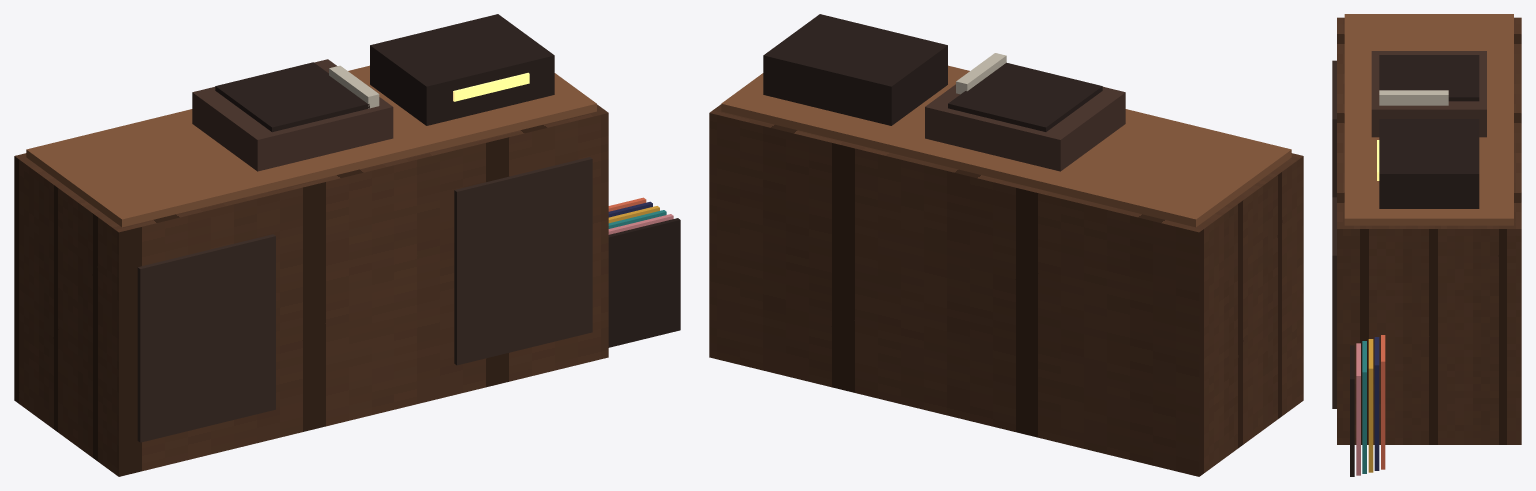
The model's file is stereo.glb.
3 renders of one model, left to right at view 1: azimuth 30°, elevation 25°; view 2: azimuth 150°, elevation 25°; view 3: azimuth 270°, elevation 25°, orthographic. The views are drawn at different scales.
Visible parts, largest first — view 1: Box1, Box2, Box4, Box3, Box8, Box5, Box15, Box6, Box9, Box7; view 2: Box1, Box2, Box8, Box5, Box6, Box7; view 3: Box1, Box2, Box8, Box6, Box5, Box7, Box4, Box11, Box12, Box3, Box10, Box13 (+2 smaller).
Boxes of the visible parts, x1=… form: Box1: x1=14, y1=104, x2=608, y2=476; Box2: x1=26, y1=65, x2=596, y2=227; Box4: x1=454, y1=157, x2=592, y2=365; Box3: x1=137, y1=234, x2=275, y2=442; Box8: x1=370, y1=14, x2=554, y2=125; Box5: x1=192, y1=59, x2=393, y2=171; Box15: x1=608, y1=218, x2=680, y2=347; Box6: x1=215, y1=62, x2=369, y2=132; Box9: x1=453, y1=72, x2=529, y2=101; Box7: x1=329, y1=65, x2=379, y2=108; Box1: x1=709, y1=104, x2=1303, y2=476; Box2: x1=721, y1=65, x2=1291, y2=227; Box8: x1=763, y1=14, x2=947, y2=125; Box5: x1=925, y1=84, x2=1125, y2=171; Box6: x1=948, y1=62, x2=1102, y2=131; Box7: x1=956, y1=53, x2=1006, y2=94; Box1: x1=1337, y1=17, x2=1521, y2=444; Box2: x1=1344, y1=14, x2=1513, y2=225; Box8: x1=1379, y1=119, x2=1479, y2=208; Box6: x1=1379, y1=55, x2=1479, y2=101; Box5: x1=1371, y1=51, x2=1486, y2=137; Box7: x1=1379, y1=90, x2=1448, y2=105; Box4: x1=1332, y1=197, x2=1336, y2=408; Box11: x1=1374, y1=337, x2=1379, y2=470; Box12: x1=1368, y1=339, x2=1373, y2=472; Box3: x1=1332, y1=60, x2=1336, y2=197; Box10: x1=1381, y1=335, x2=1385, y2=469; Box13: x1=1362, y1=341, x2=1366, y2=473.
Size of the model in its own units: 1.51 by 0.75 by 0.492.
13 materials, 1 textured.
